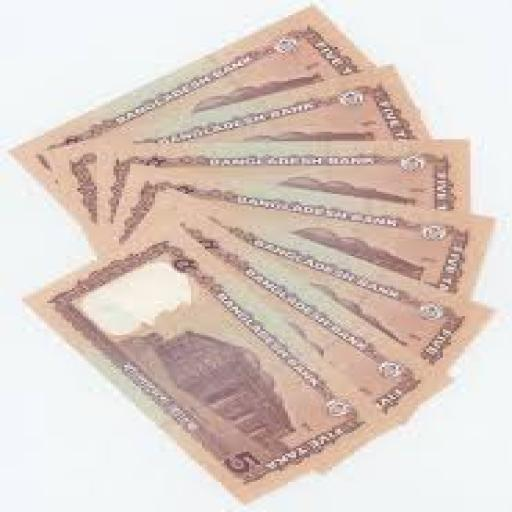5taka: (33, 233, 390, 497), (125, 152, 484, 294), (133, 68, 426, 143)
